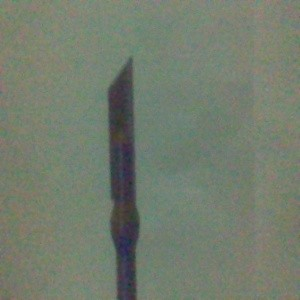cutter: (105, 55, 142, 300)
